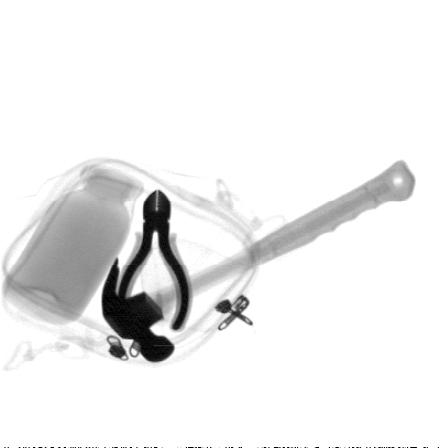Hammer: (100, 159, 415, 363)
Pliers: (112, 189, 194, 332)
